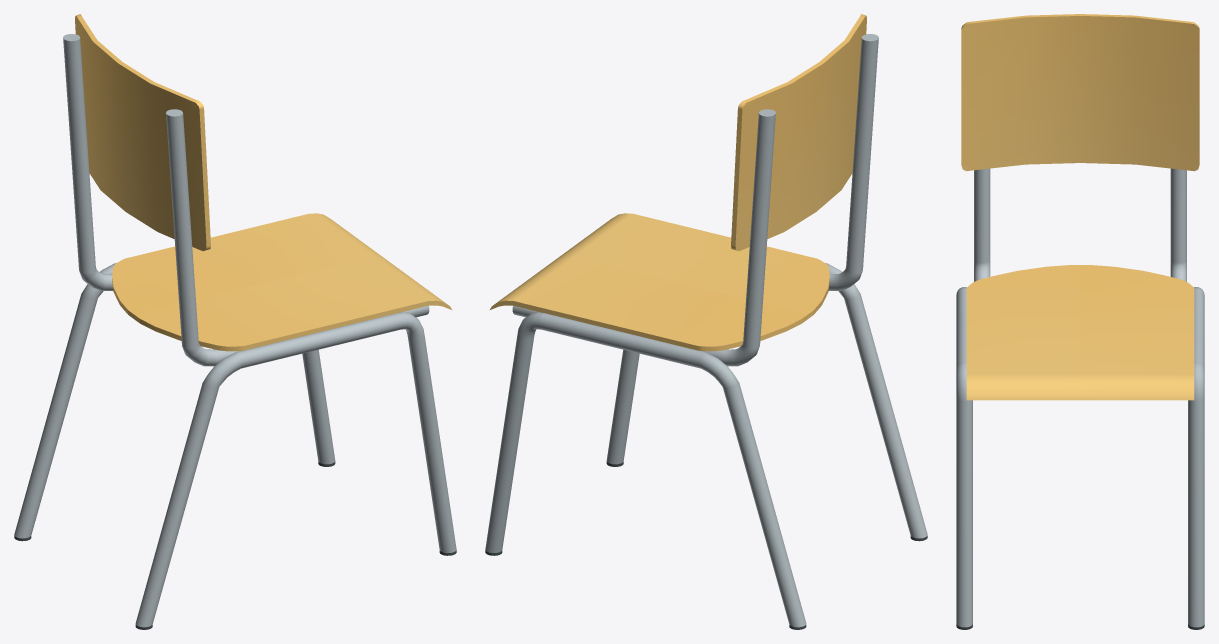
File: School Chair.fbx
The picture shows the model from 3 angles, left to right: view 1: azimuth 30°, elevation 25°; view 2: azimuth 150°, elevation 25°; view 3: azimuth 270°, elevation 25°; orthographic projection. The views are drawn at different scales.
Visible parts, largest first — view 1: Chair:persp2; view 2: Chair:persp2; view 3: Chair:persp2.
Boxes of the visible parts, <box> form: Chair:persp2: <box>14,14,456,629</box>; Chair:persp2: <box>485,14,927,629</box>; Chair:persp2: <box>956,14,1204,629</box>.
Bounding box in the file's own units: 1.42 × 2.18 × 1.
1 material, 1 textured.
